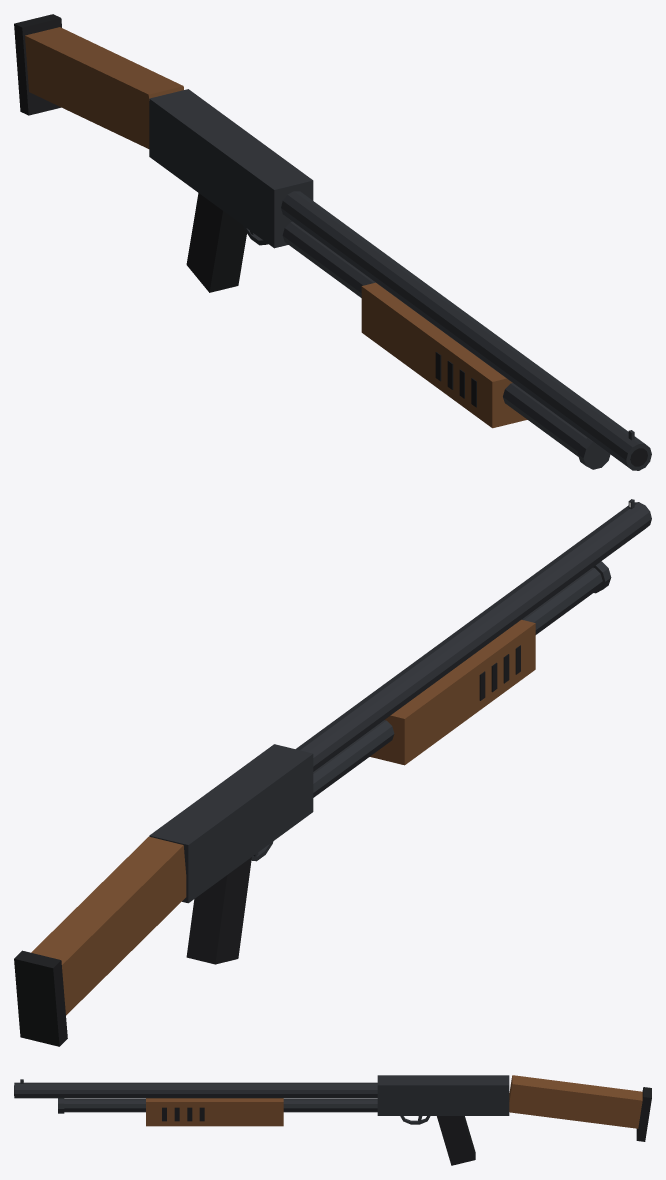
The model's file is shotgun.glb.
The picture shows the model from 3 angles, top to bottom: view 1: azimuth 30°, elevation 25°; view 2: azimuth 150°, elevation 25°; view 3: azimuth 270°, elevation 25°; orthographic projection. The views are drawn at different scales.
Parts seen in each view (by area): view 1: shotgun; view 2: shotgun; view 3: shotgun.
Part boxes in pixels (x1,y1,x2,y2): shotgun: [14, 14, 651, 470]; shotgun: [14, 499, 651, 1046]; shotgun: [14, 1075, 651, 1165].
Bounding box in the file's own units: 0.0436 × 0.1453 × 1.02.
